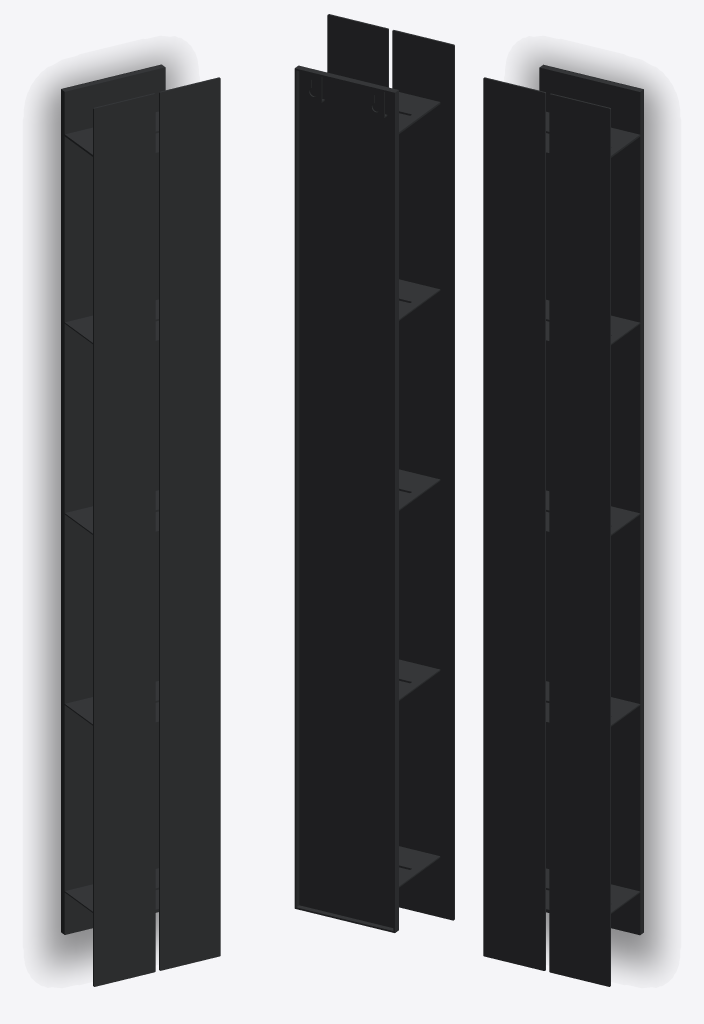
File: skyline-prima.7fff6bc03a.ar.glb
The picture shows the model from 3 angles, left to right: view 1: azimuth 30°, elevation 25°; view 2: azimuth 150°, elevation 25°; view 3: azimuth 330°, elevation 25°; orthographic projection.
Visible parts, largest first — view 1: NAUO1, object 2; view 2: NAUO1; view 3: NAUO1, object 2.
Part boxes in pixels (x1,y1,x2,y2): NAUO1: [61, 64, 220, 986]; object 2: [39, 54, 182, 969]; NAUO1: [294, 14, 454, 932]; NAUO1: [483, 64, 643, 986]; object 2: [521, 54, 664, 969].
Bounding box in the file's own units: 0.2312 × 1.08 × 0.096.
Materials: 2 (1 with a texture image).
